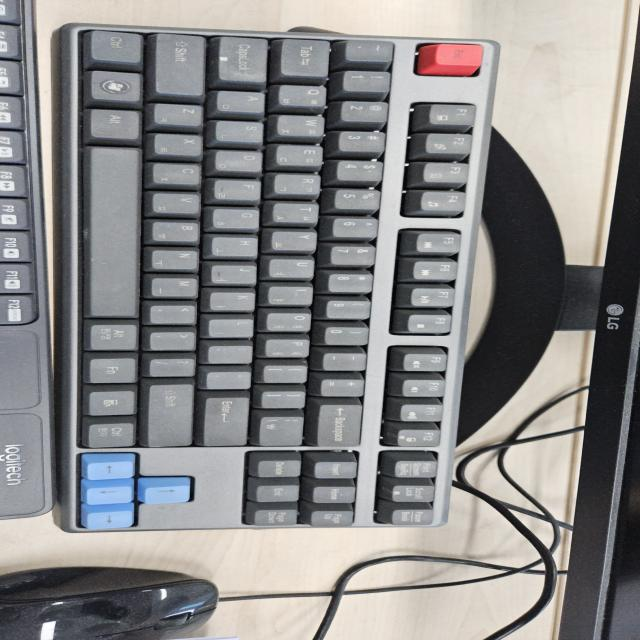Keyboard: (43, 20, 500, 532)
Mouse: (1, 564, 221, 638)
